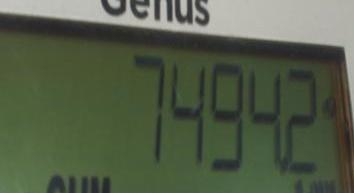0: (278, 158, 287, 173)
3: (286, 62, 323, 173)
5: (245, 69, 285, 168), (171, 63, 207, 166)
8: (129, 53, 169, 164)
object: (211, 62, 245, 172)
